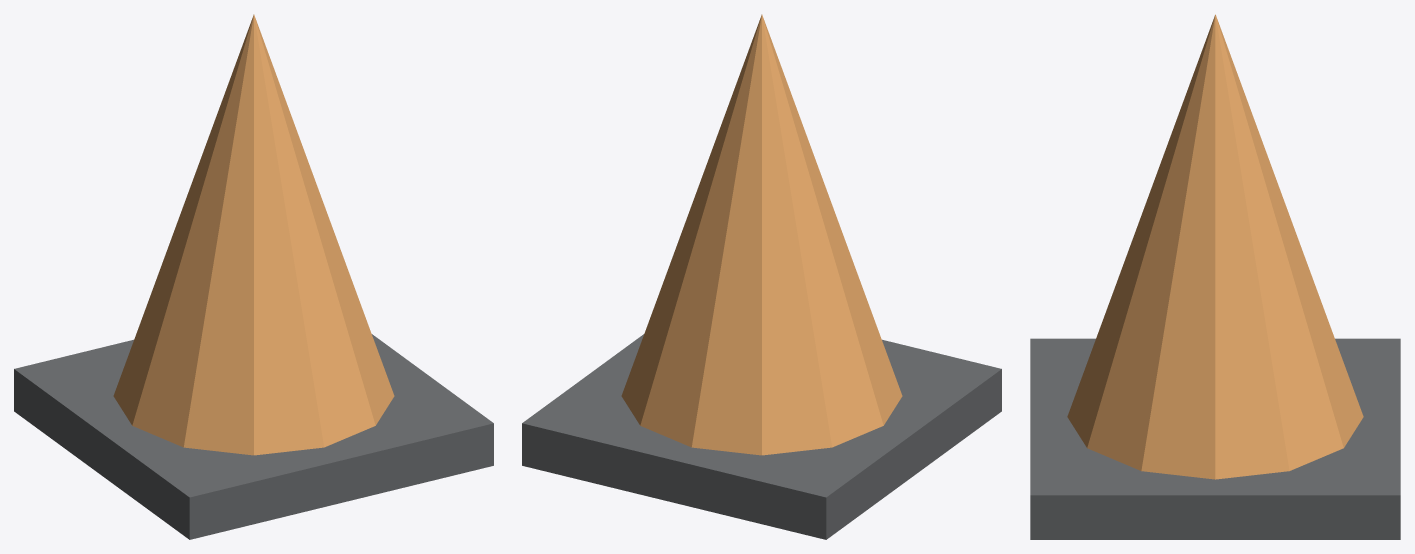
3 views of the same model, side by side, from view 1: azimuth 30°, elevation 25°; view 2: azimuth 150°, elevation 25°; view 3: azimuth 270°, elevation 25° (orthographic). The views are drawn at different scales.
Parts seen in each view (by area): view 1: cone, base; view 2: cone, base; view 3: cone, base.
Boxes of the visible parts, <box> form: cone: <box>113,14,394,455</box>; base: <box>14,334,493,539</box>; cone: <box>621,14,902,455</box>; base: <box>522,334,1001,539</box>; cone: <box>1067,14,1363,479</box>; base: <box>1030,338,1400,539</box>.
Size of the model in its own units: 0.6 by 0.8 by 0.6.
